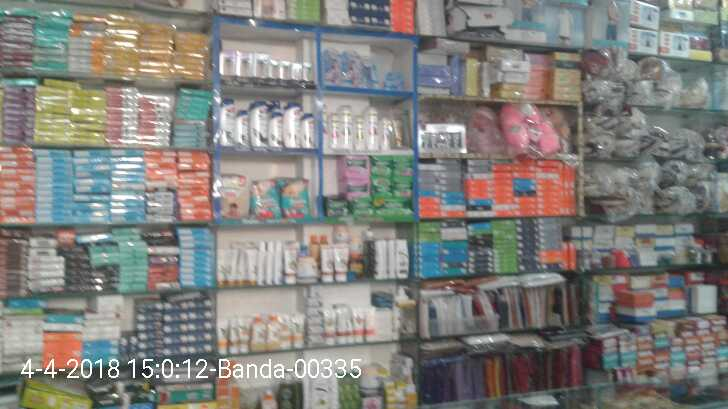venus: (342, 49, 360, 88), (324, 49, 342, 88), (360, 56, 377, 88), (383, 72, 404, 90)
